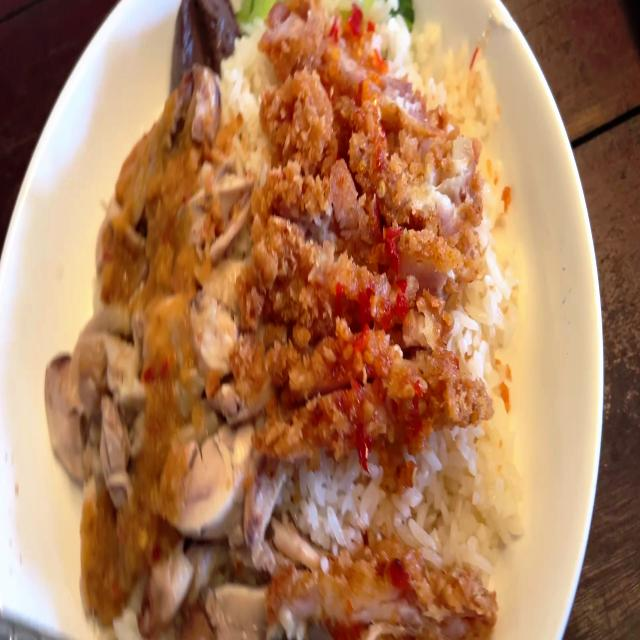boiled_chicken: (55, 106, 258, 546)
boiled_chicken_blood_jelly: (158, 0, 243, 91)
chicken_rice: (42, 0, 526, 640)
fried_chicken: (261, 11, 477, 433), (276, 528, 490, 640)
